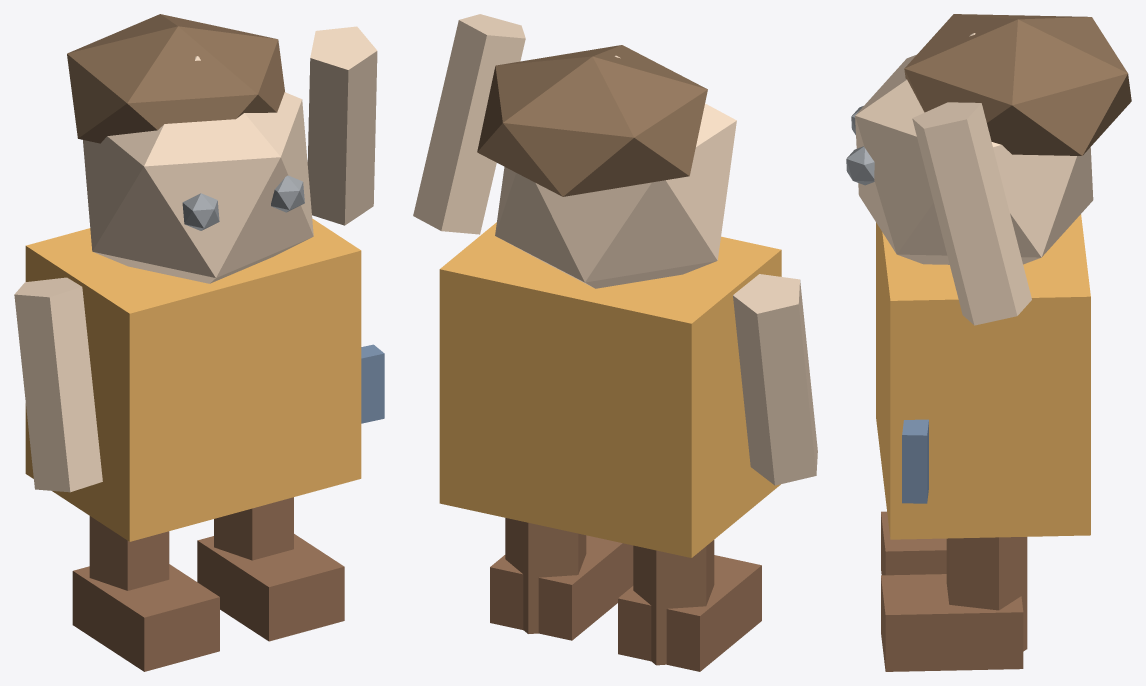
The model's file is npcpose_villager_wave_15.glb.
3 views of the same model, side by side, from view 1: azimuth 30°, elevation 25°; view 2: azimuth 150°, elevation 25°; view 3: azimuth 270°, elevation 25° (orthographic). The views are drawn at different scales.
Parts seen in each view (by area): view 1: npcpose; view 2: npcpose; view 3: npcpose.
Boxes of the visible parts, box(x1,y1,x2,y2) form: npcpose: box(14, 14, 384, 671); npcpose: box(413, 14, 817, 671); npcpose: box(846, 14, 1131, 671).
Bounding box in the file's own units: 0.6883 × 1.06 × 0.4552.
